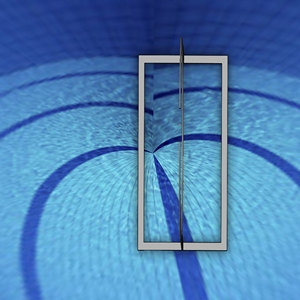circle: (134, 29, 230, 255), (172, 35, 191, 252)
